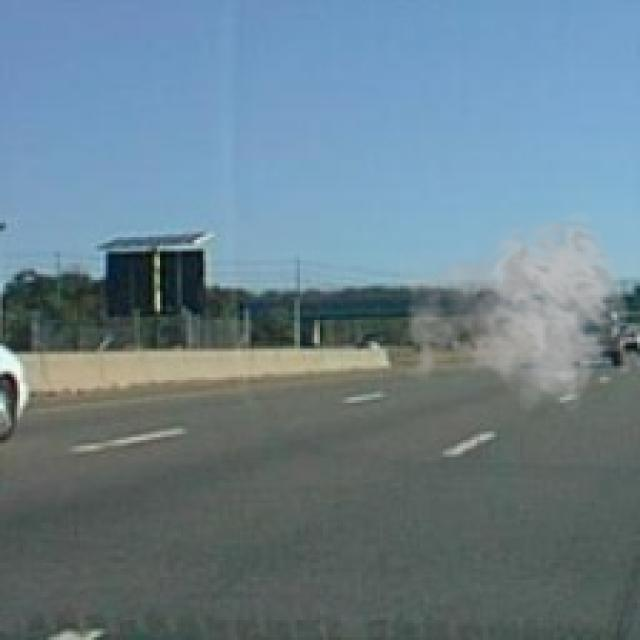Smoke: (388, 208, 632, 418)
